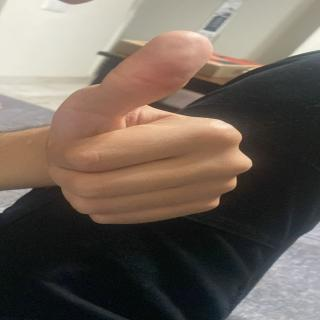ALIF: (6, 30, 284, 225)
